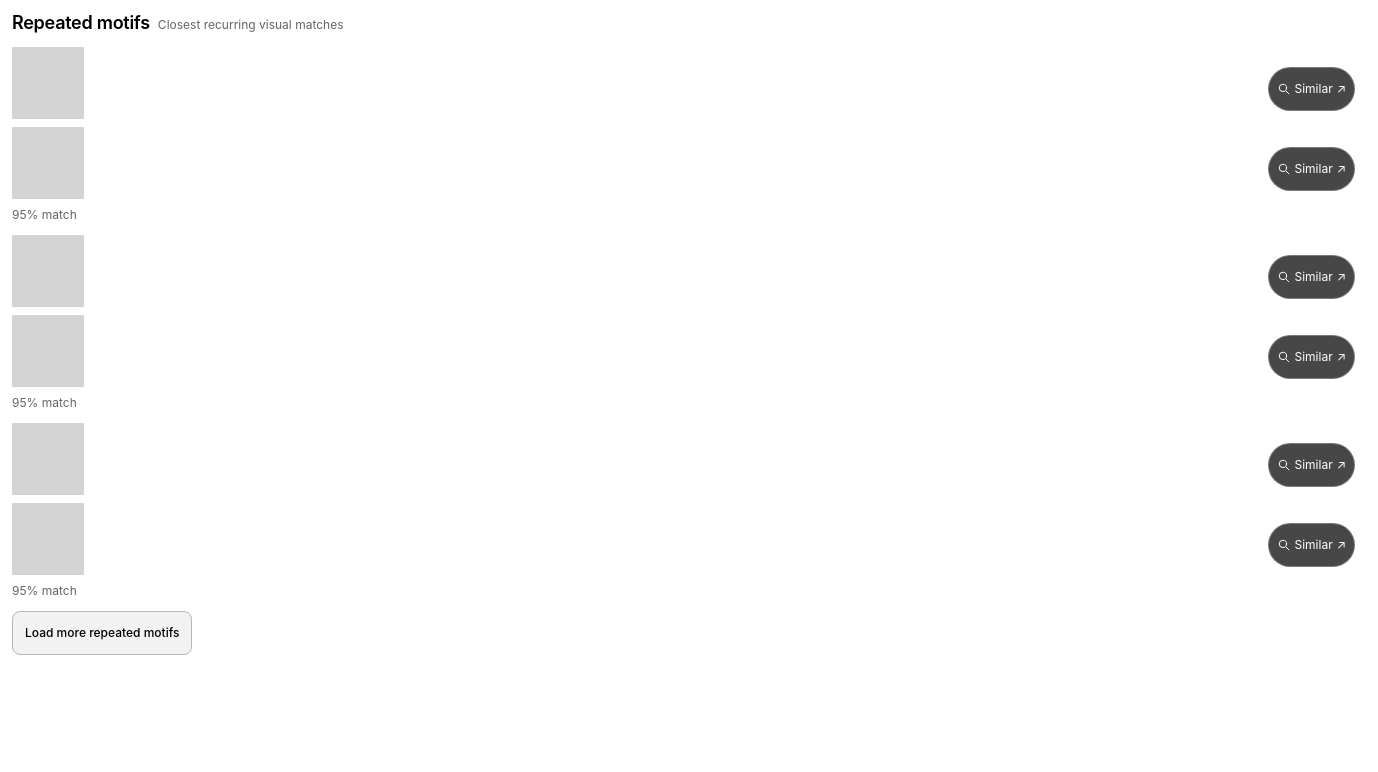
Test case: opens with three rows of pairs at width 342 and adds a row
This screenshot has width=1378, height=772.
Click the button "Load more repeated motifs".
click(102, 633)  # box [12,611,192,655]
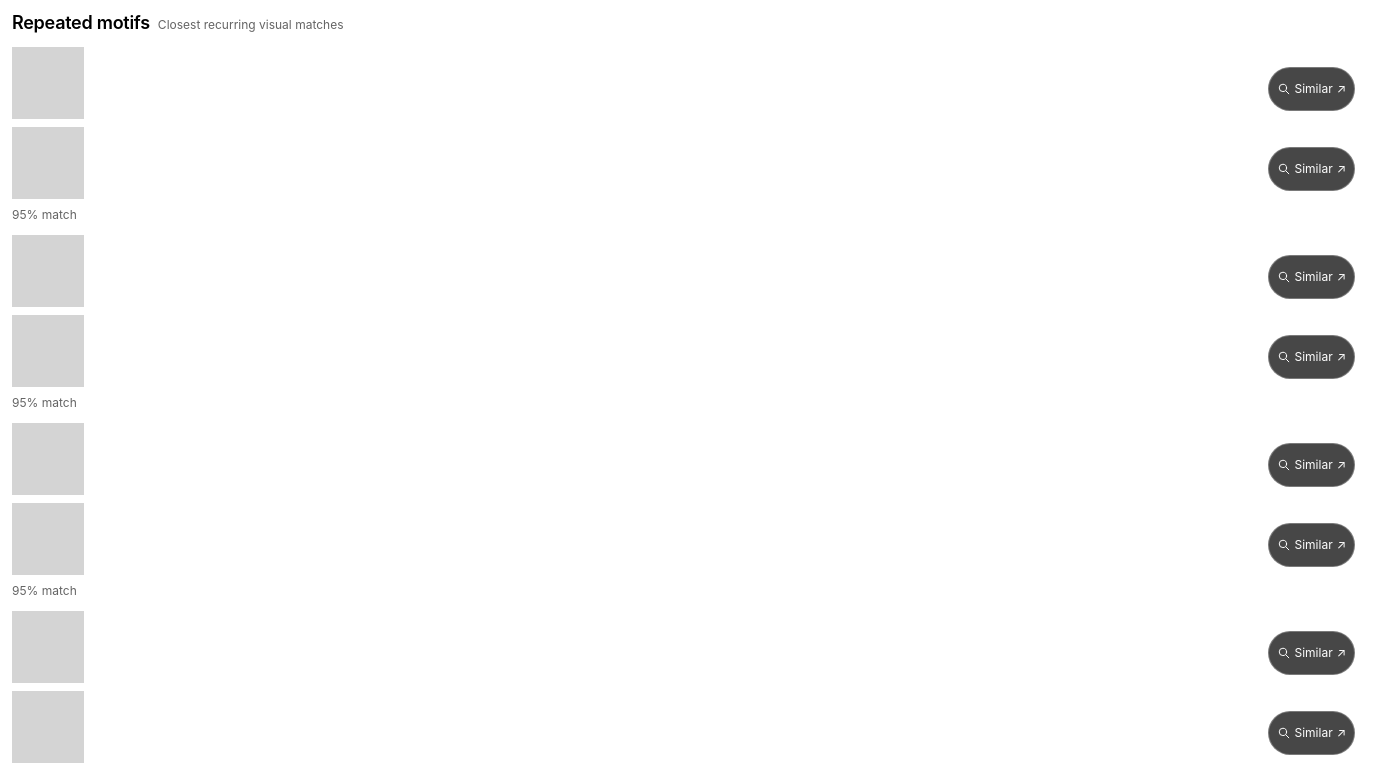
Now the number of pictures is 8
